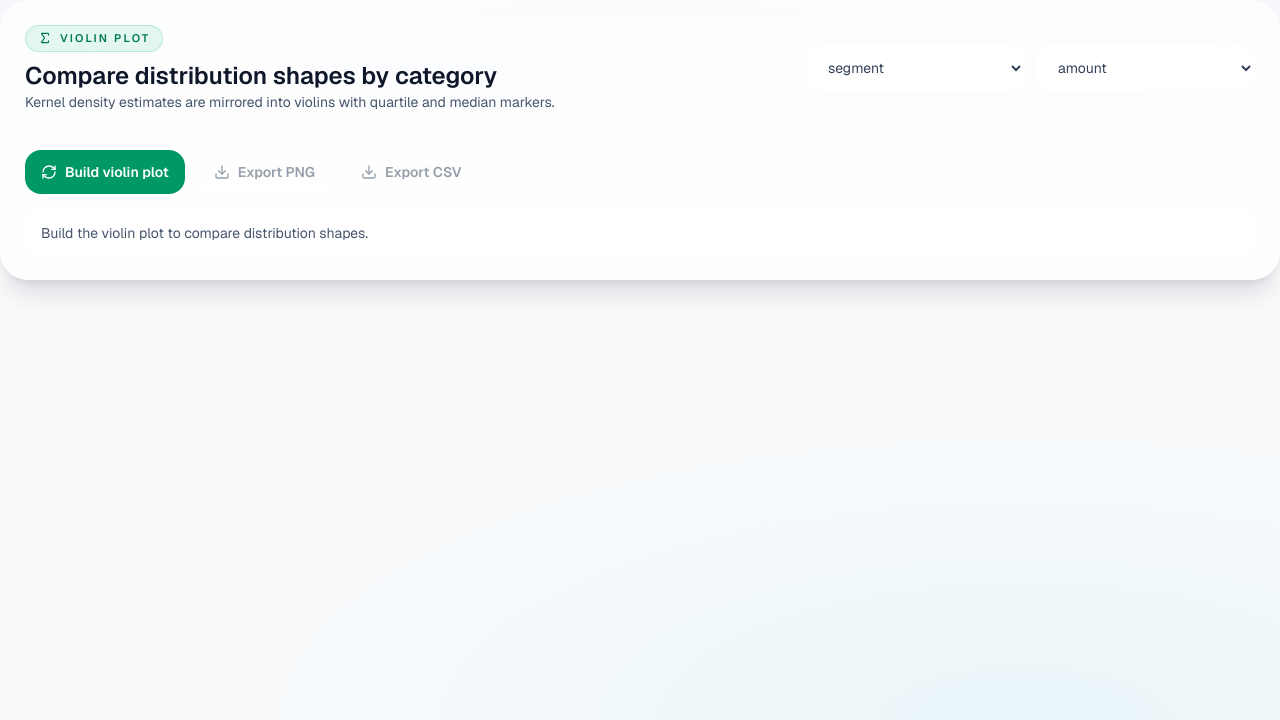
ViolinPlot › shows query errors when the violin plot cannot be built
The image size is (1280, 720).
Click the button "Build violin plot" at coordinates (105, 172), box 25,150 -> 185,194
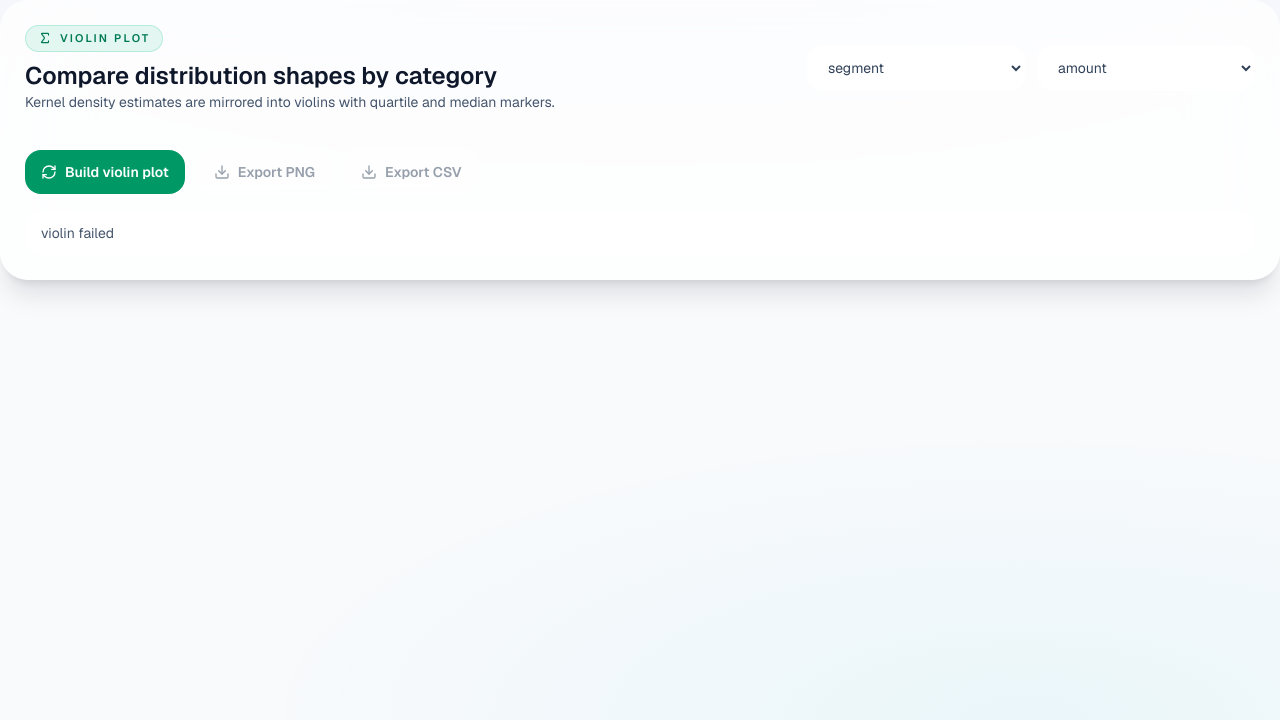
Now the text "violin failed" is shown, box 25,210 -> 1255,254
